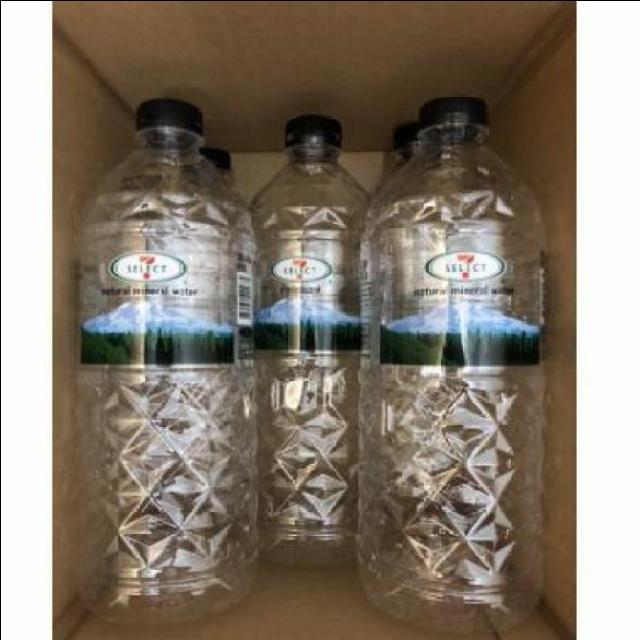plastik: (357, 96, 543, 631), (76, 98, 254, 622), (251, 113, 367, 564)
